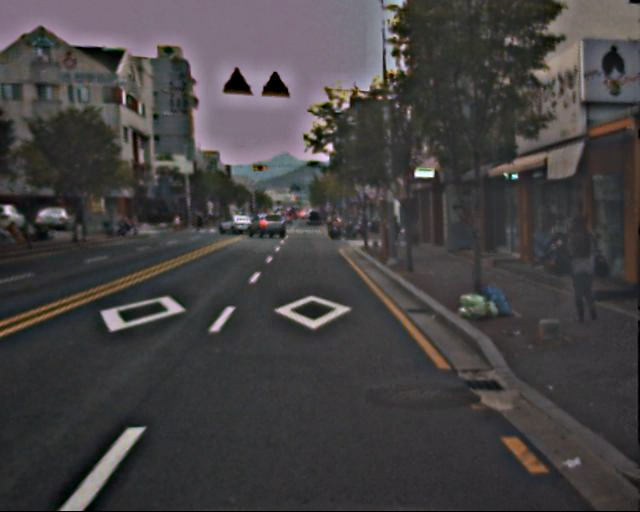person: (555, 216, 606, 326)
